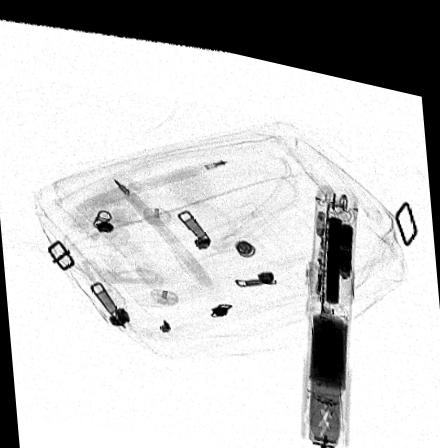Baton: (298, 166, 358, 438)
